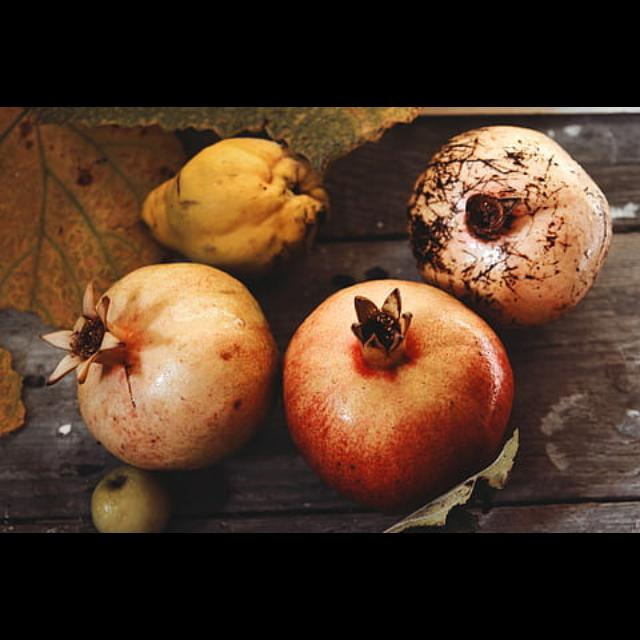Apel Tidak Segar: (51, 255, 283, 480), (392, 118, 630, 336), (296, 286, 524, 504)
